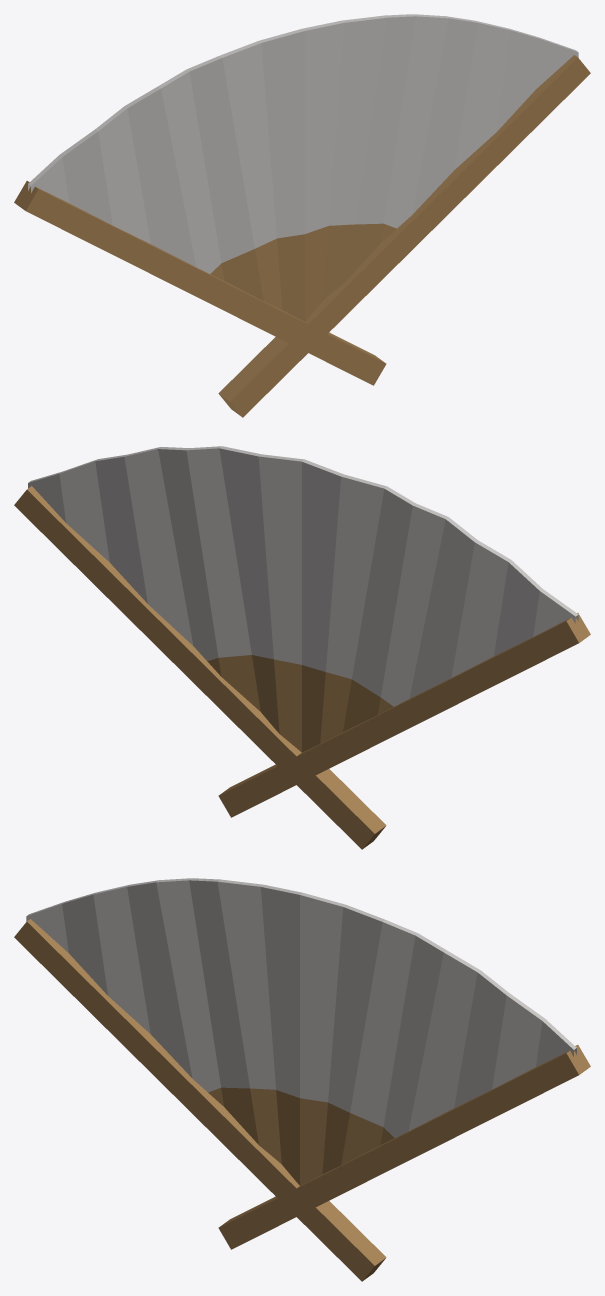
Rendered from Marao_1.fbx.
3 views of the same model, one above another, from view 1: azimuth 30°, elevation 25°; view 2: azimuth 150°, elevation 25°; view 3: azimuth 330°, elevation 25° (orthographic).
Visible parts, largest first — view 1: Marao_1; view 2: Marao_1; view 3: Marao_1.
Boxes of the visible parts, x1,y1,x2,y2 form: Marao_1: (14, 14, 590, 417); Marao_1: (14, 446, 590, 849); Marao_1: (14, 878, 590, 1281).
Size of the model in its own units: 67 by 41.72 by 2.4.
